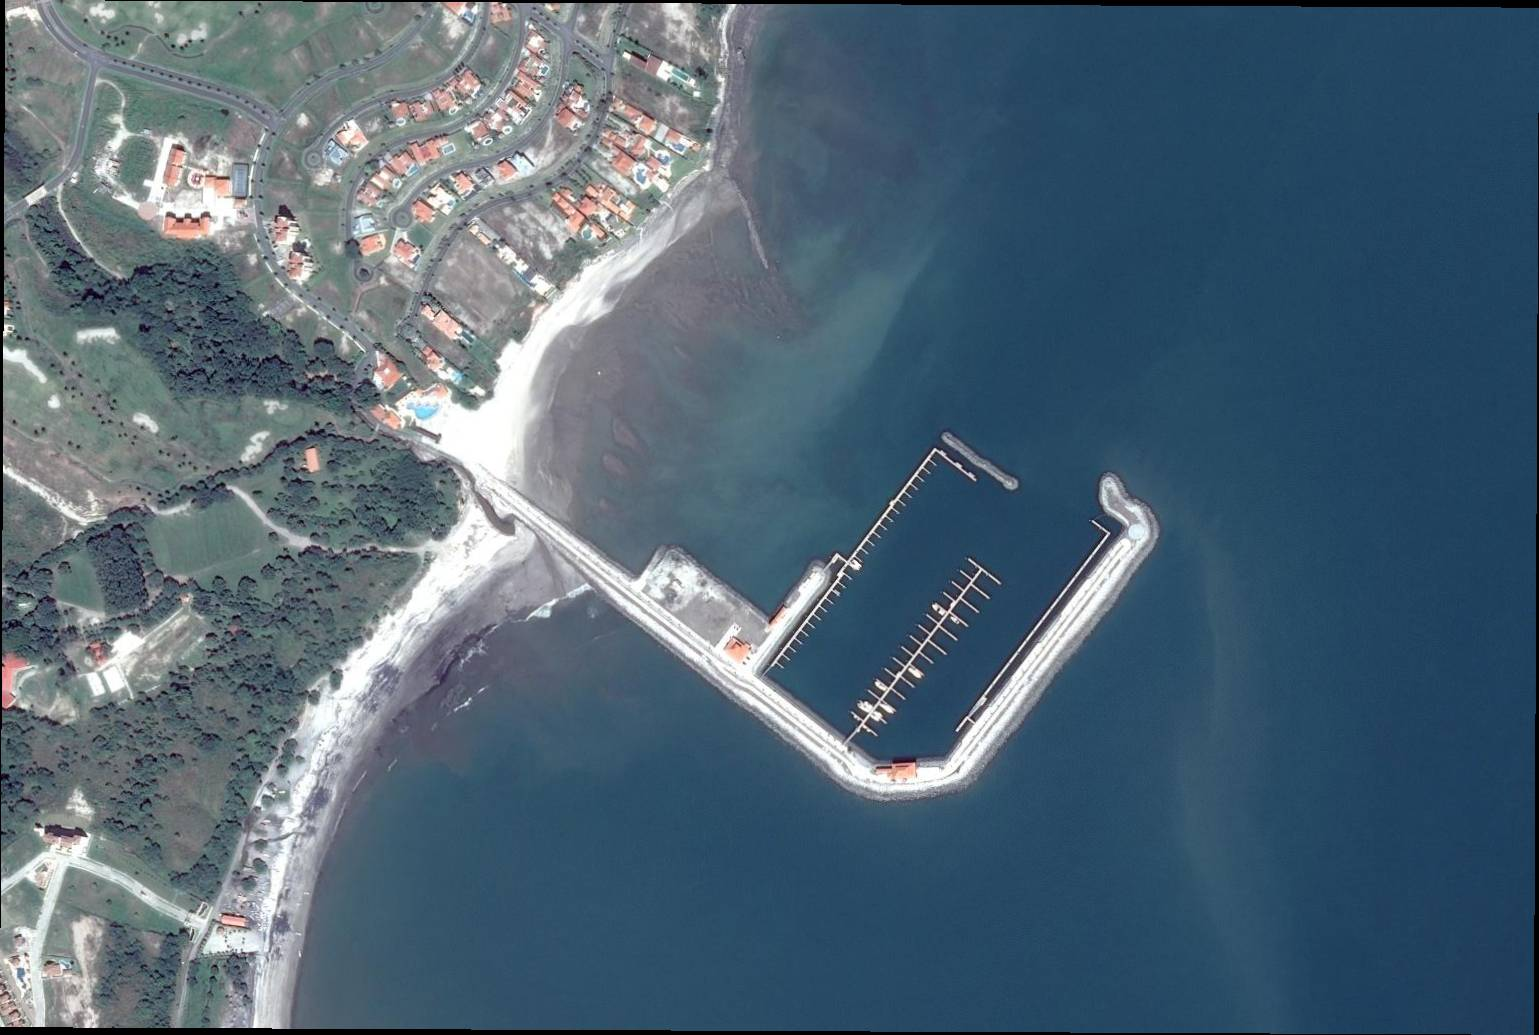harbor: (907, 467, 1190, 799), (759, 441, 983, 703), (841, 551, 1009, 749)
roundabout: (390, 204, 416, 230), (304, 146, 326, 172)
swimming pool: (405, 401, 442, 423)
